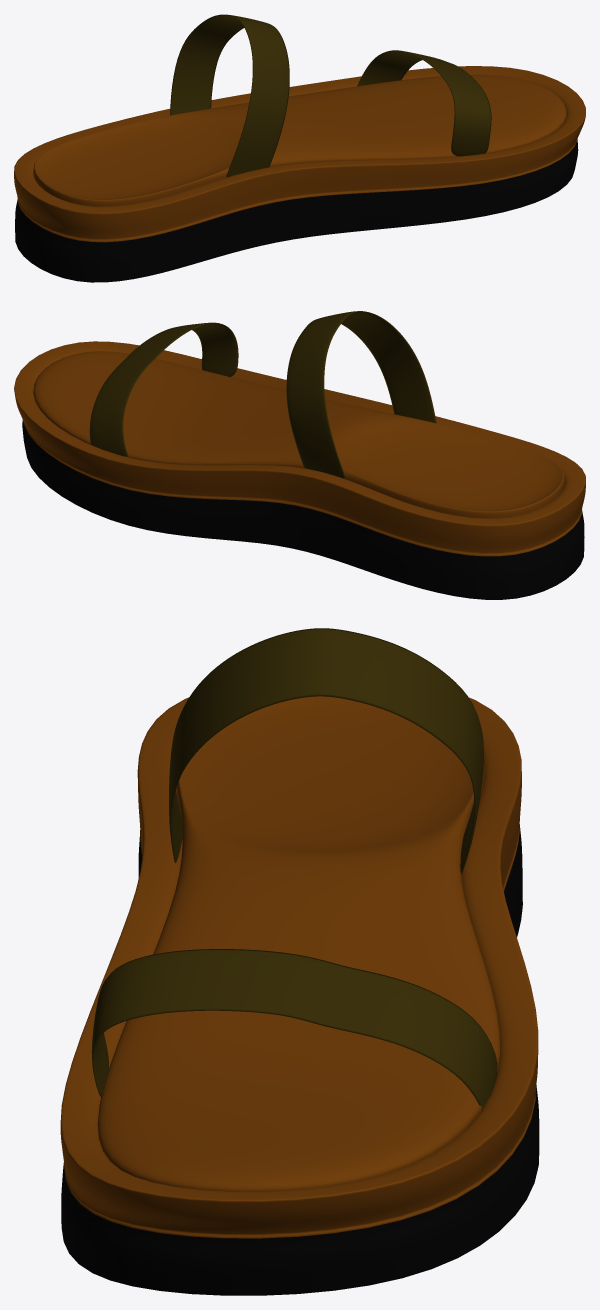
Rendered from slippers.glb.
The picture shows the model from 3 angles, top to bottom: view 1: azimuth 30°, elevation 25°; view 2: azimuth 150°, elevation 25°; view 3: azimuth 270°, elevation 25°; orthographic projection. The views are drawn at different scales.
Visible parts, largest first — view 1: soleUpper, soleBottom, strap1, strap2; view 2: soleUpper, soleBottom, strap1, strap2; view 3: soleUpper, soleBottom, strap2, strap1.
Boxes of the visible parts, x1=… form: soleUpper: x1=14, y1=66, x2=585, y2=242; soleBottom: x1=15, y1=140, x2=578, y2=282; strap1: x1=170, y1=14, x2=289, y2=177; strap2: x1=357, y1=50, x2=491, y2=156; soleUpper: x1=14, y1=341, x2=585, y2=556; soleBottom: x1=22, y1=420, x2=584, y2=599; strap1: x1=286, y1=311, x2=436, y2=478; strap2: x1=89, y1=322, x2=238, y2=456; soleUpper: x1=60, y1=696, x2=538, y2=1238; soleBottom: x1=61, y1=824, x2=539, y2=1295; strap2: x1=91, y1=949, x2=497, y2=1108; strap1: x1=169, y1=628, x2=483, y2=874.
Bounding box in the file's own units: 3.94 × 1.42 × 1.57.
